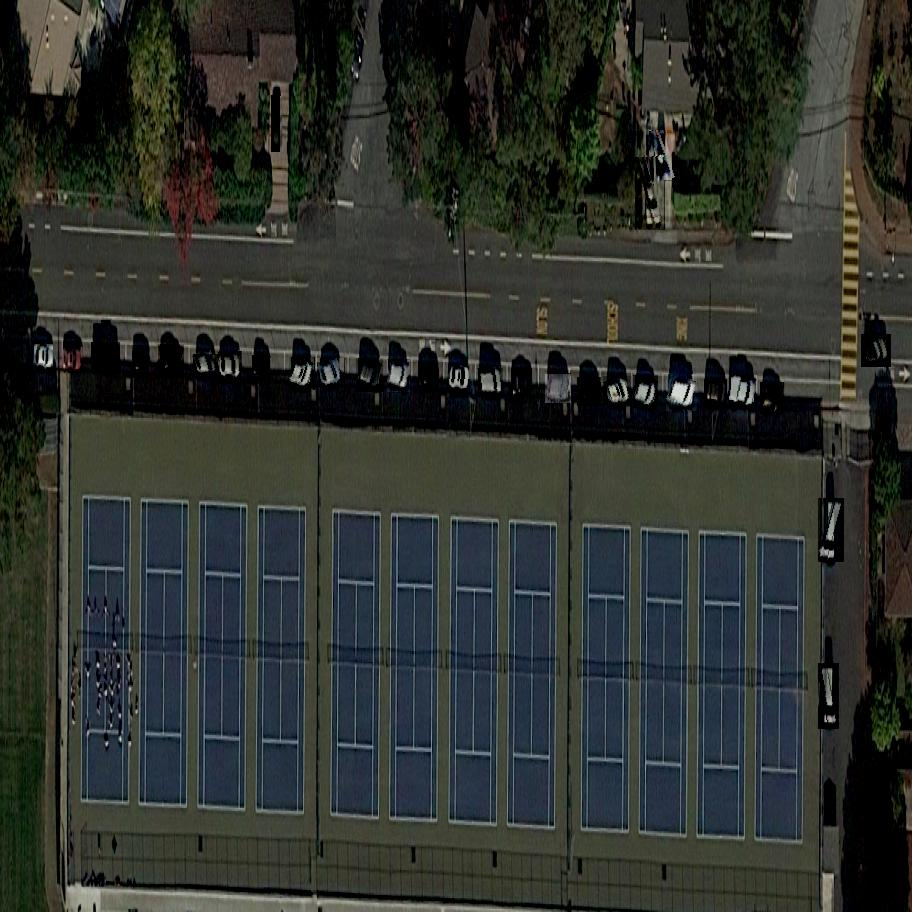small-vehicle: (636, 155, 666, 232), (818, 498, 845, 563), (648, 130, 676, 183), (819, 663, 840, 729), (665, 374, 699, 411), (861, 335, 892, 368), (355, 359, 385, 393), (728, 376, 758, 410), (603, 375, 632, 410), (158, 344, 185, 381), (92, 342, 122, 375), (317, 358, 346, 391), (288, 357, 317, 390), (633, 375, 660, 409), (545, 370, 571, 404), (760, 382, 786, 415), (387, 360, 411, 393), (193, 351, 218, 381), (577, 377, 602, 406), (219, 351, 242, 382), (479, 369, 503, 397), (704, 380, 728, 407), (33, 344, 54, 371), (418, 363, 439, 390), (512, 368, 532, 395), (448, 368, 469, 392), (253, 355, 271, 383), (64, 347, 82, 373), (272, 95, 280, 152), (133, 352, 149, 378)
